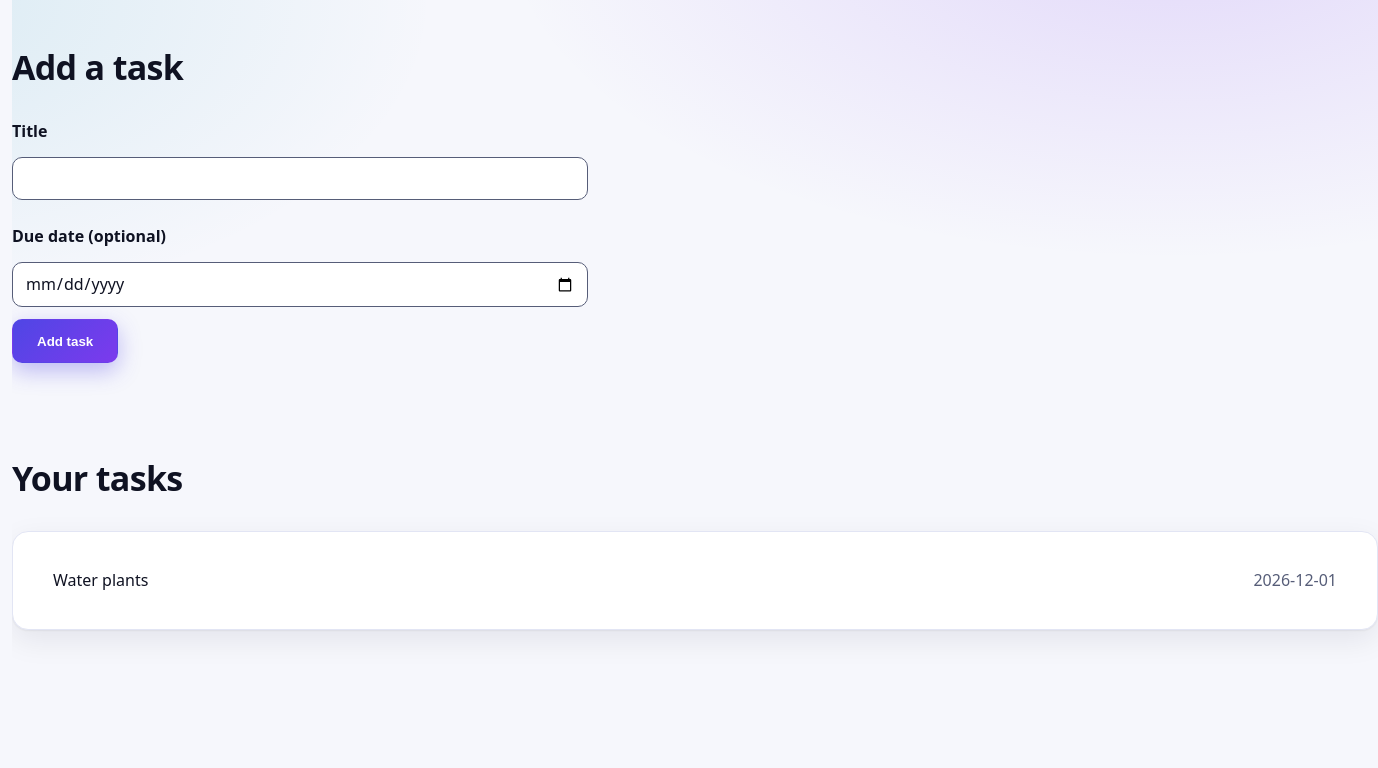
Test case: TaskBoard › AC-001.4 shows the msg of a 422 title item at the title field and keeps the values
Type "Buy milk" into the field labelled "Title".
click(300, 178); type("Buy milk")  # box 12,157 -> 588,200
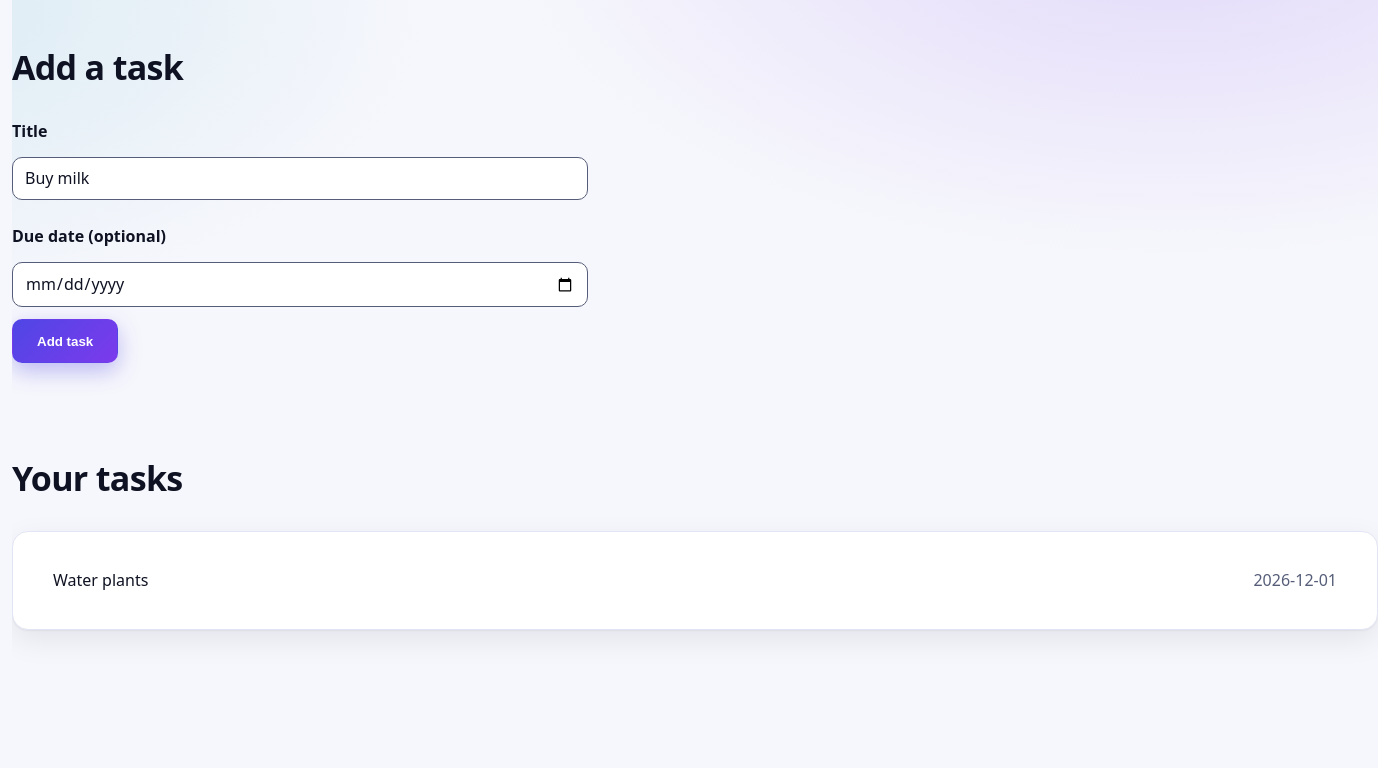
Type "2026-12-24" into the date field labelled "Due date (optional)".
click(300, 285); type("2026-12-24")  # box 12,262 -> 588,308
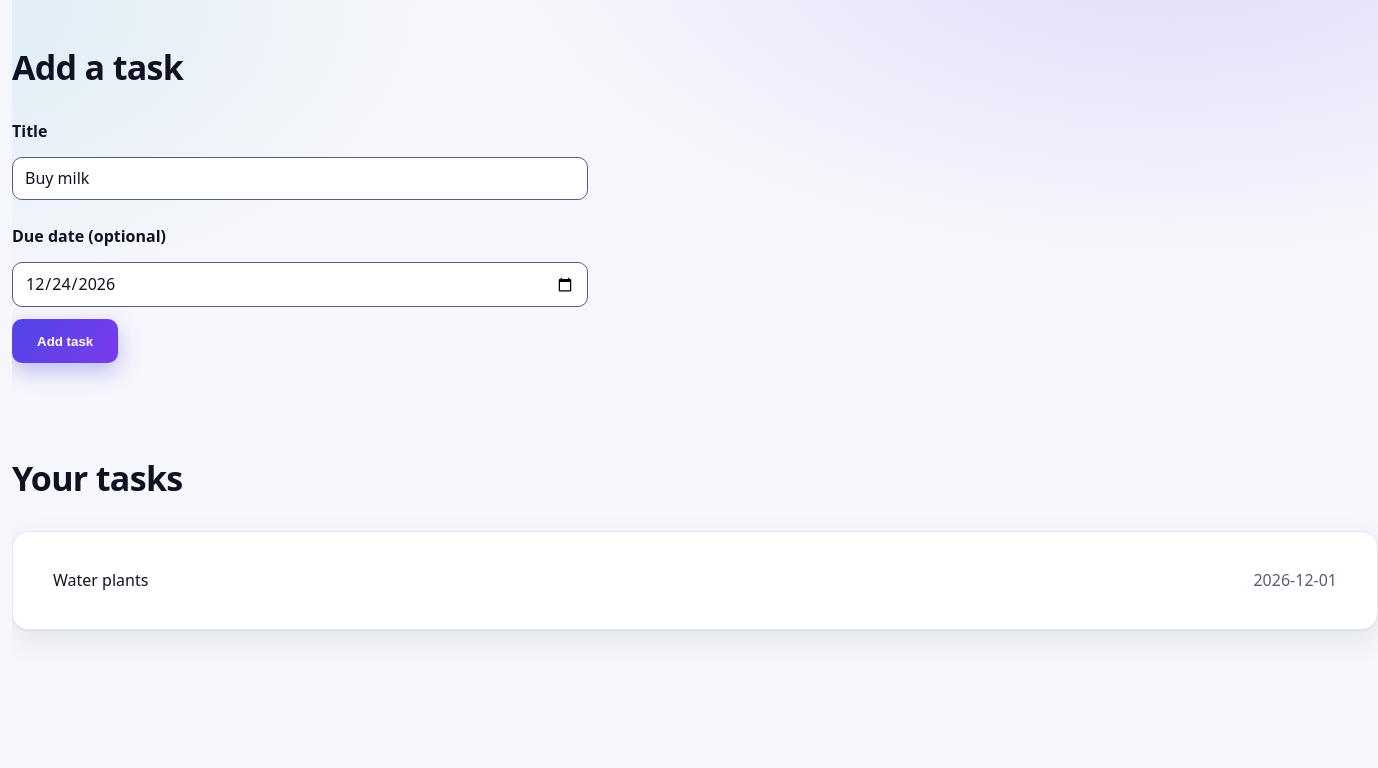
Click the button "Add task".
click(65, 342)  # box 12,320 -> 118,364
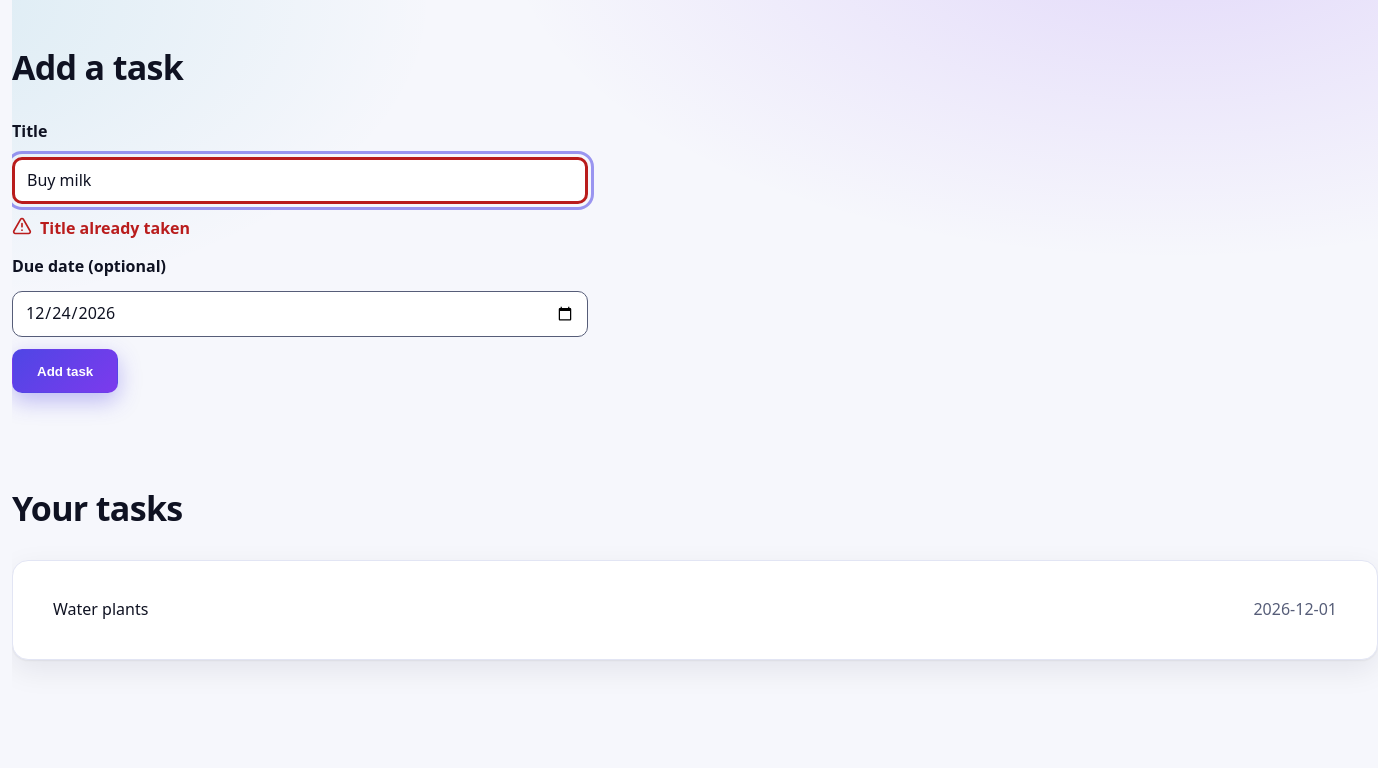
Check: the number of list items is 1, box 53,598 -> 1337,620
Check: the text "Title already taken" is shown, box 12,216 -> 190,239
